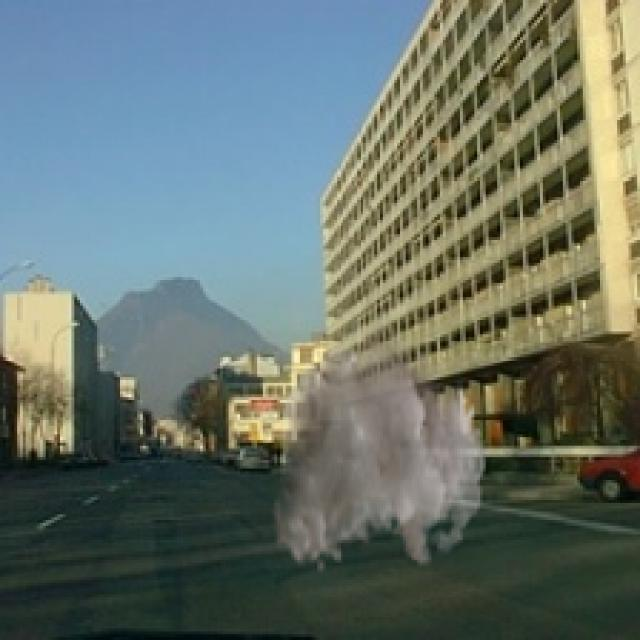Smoke: (271, 314, 486, 574)
